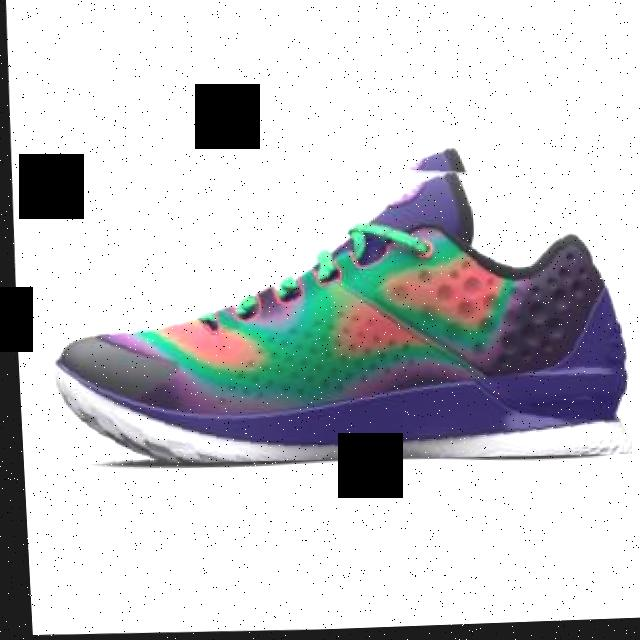shoe: (34, 138, 632, 475)
